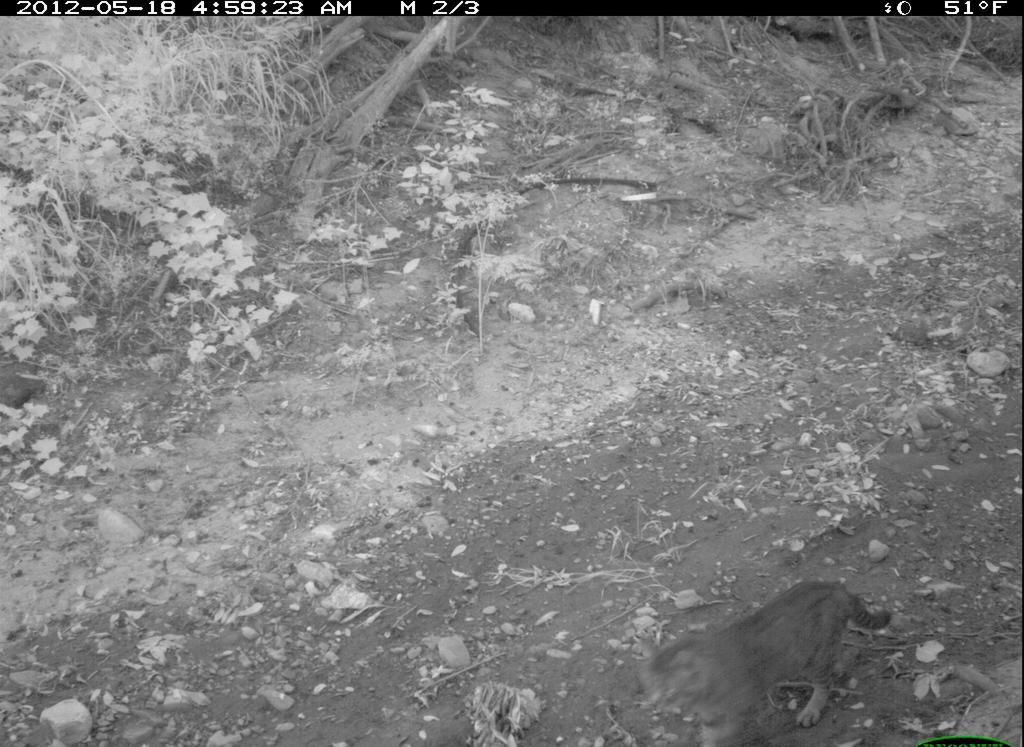cat: (629, 578, 905, 745)
